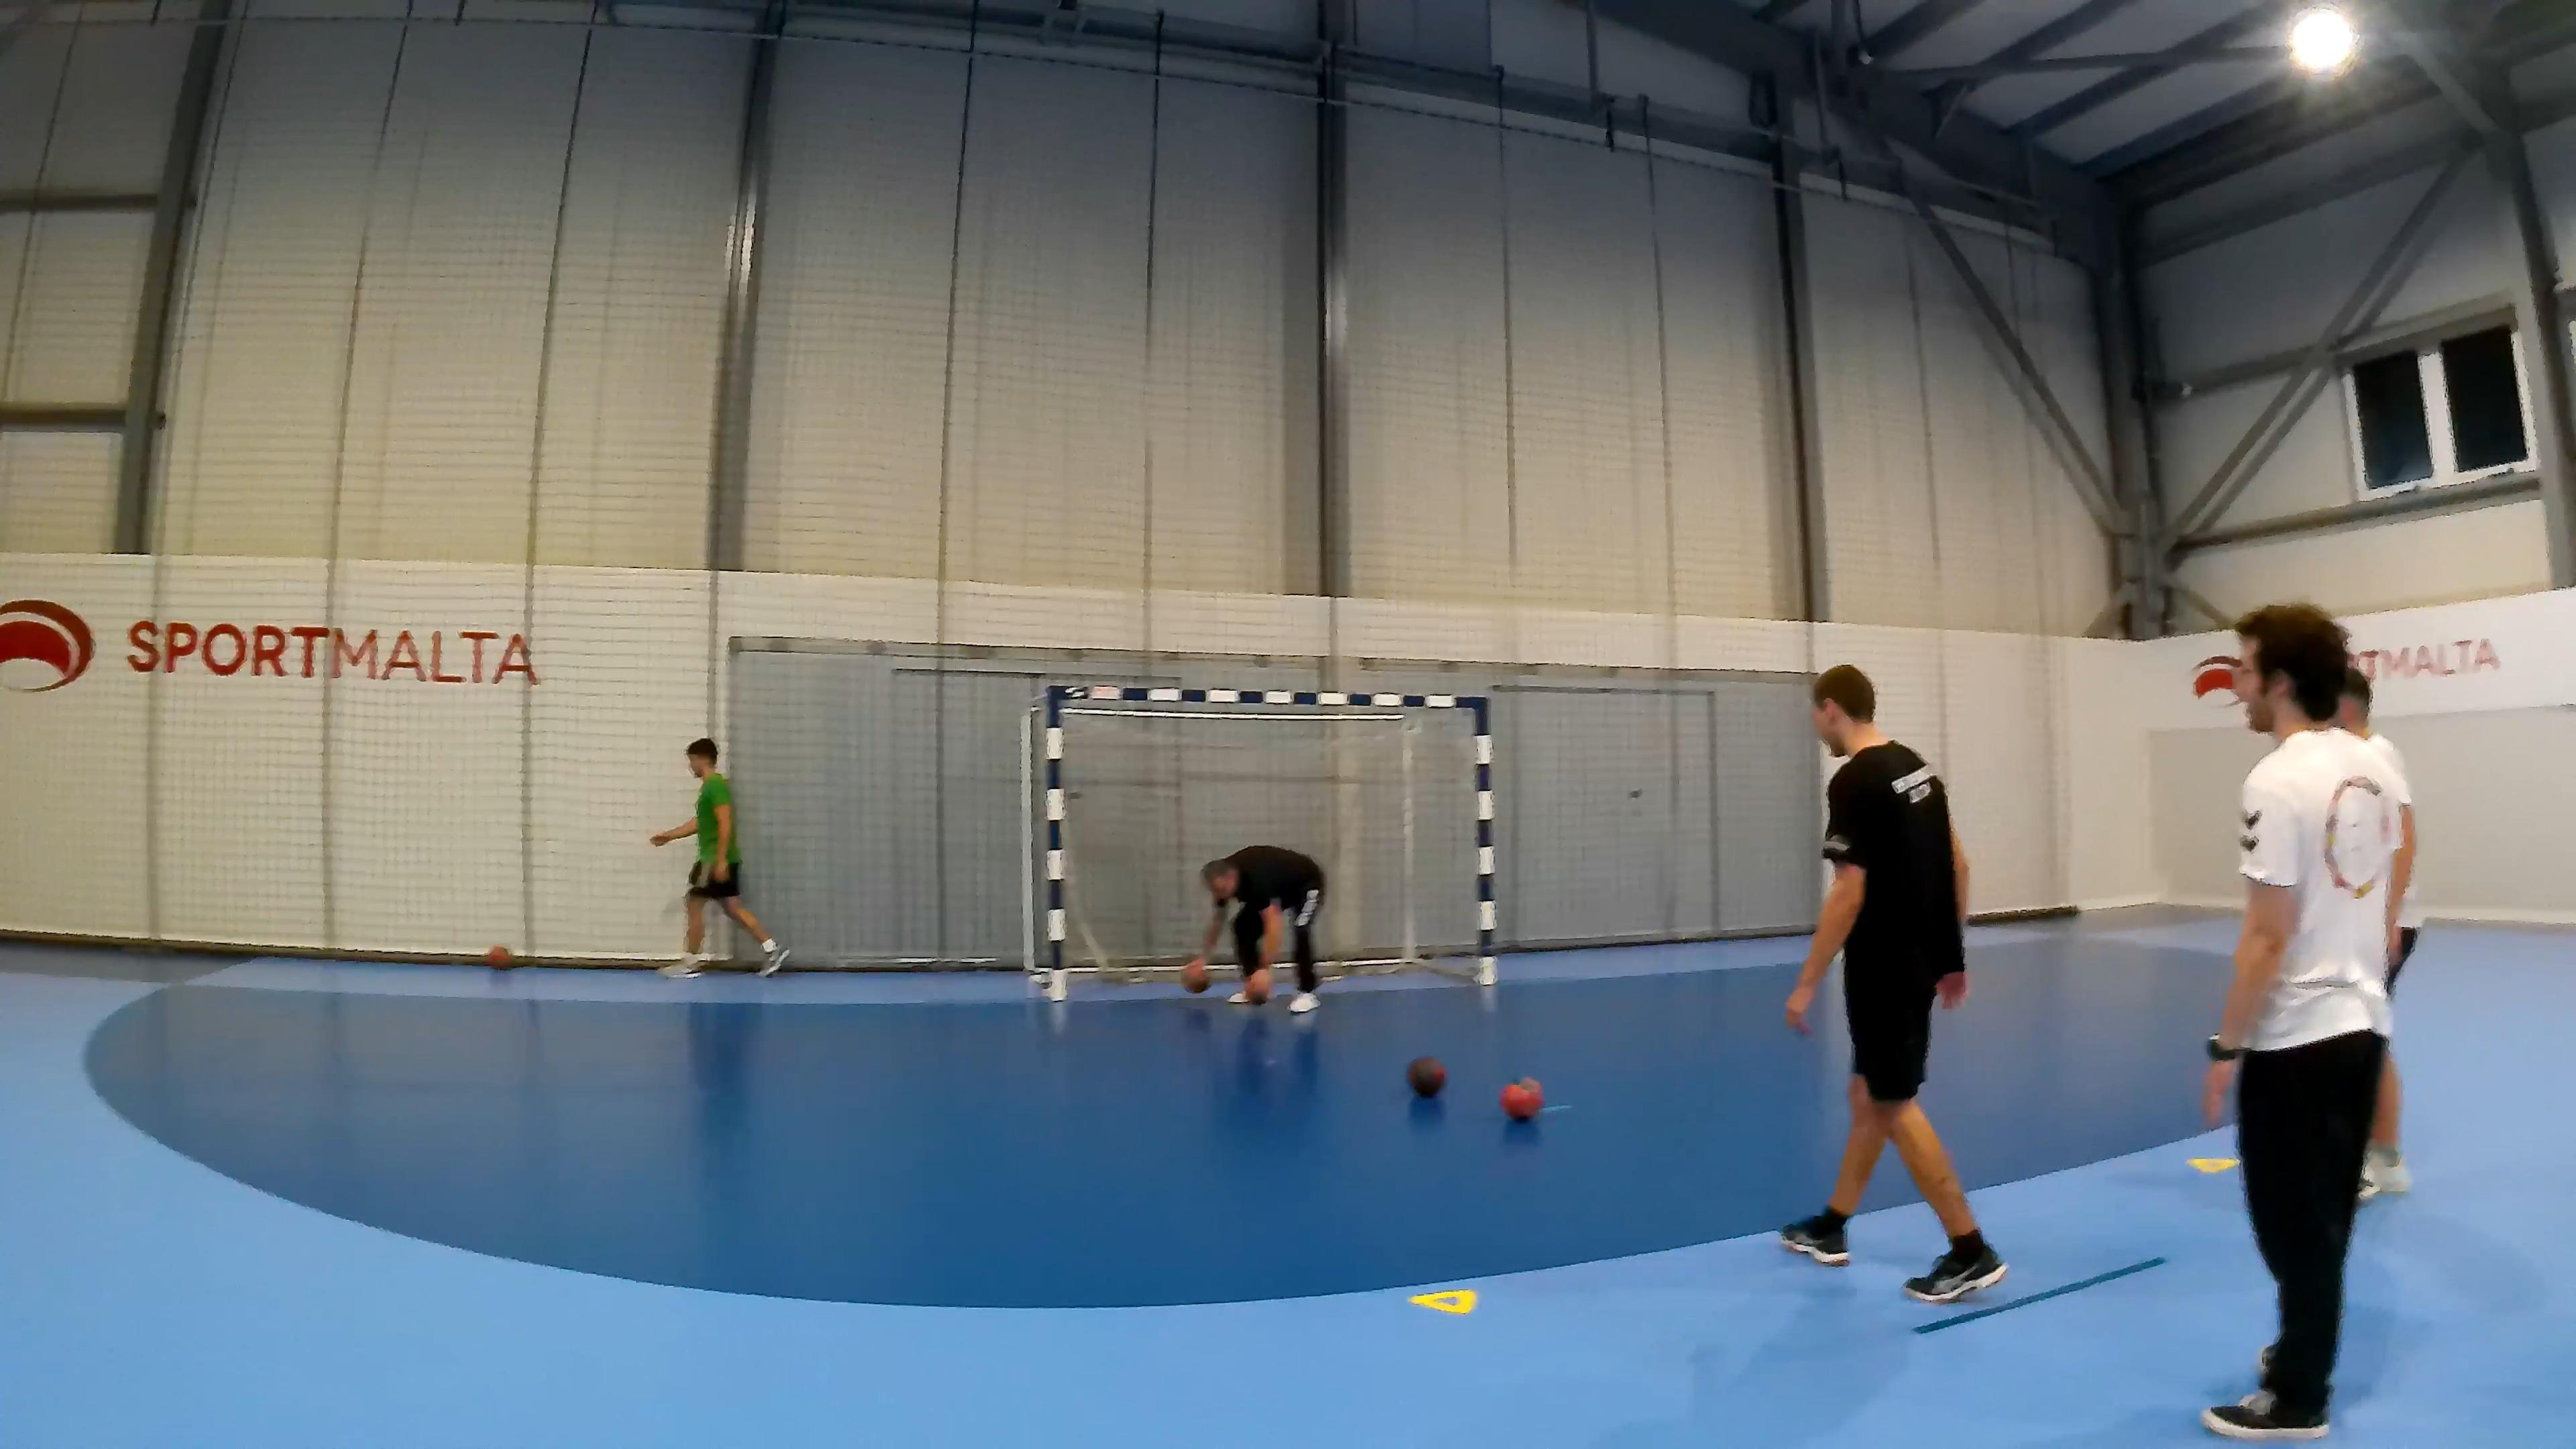handball: (1499, 1077, 1543, 1118), (1407, 1054, 1445, 1097), (1244, 964, 1274, 1003), (488, 941, 517, 980), (1180, 957, 1208, 993)
